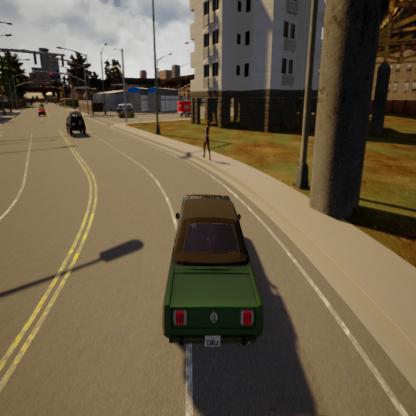Cars: (147, 182, 273, 363), (61, 108, 92, 145), (114, 101, 138, 120), (175, 98, 191, 121), (37, 104, 48, 128)
Pedestrian: (201, 113, 214, 167)
